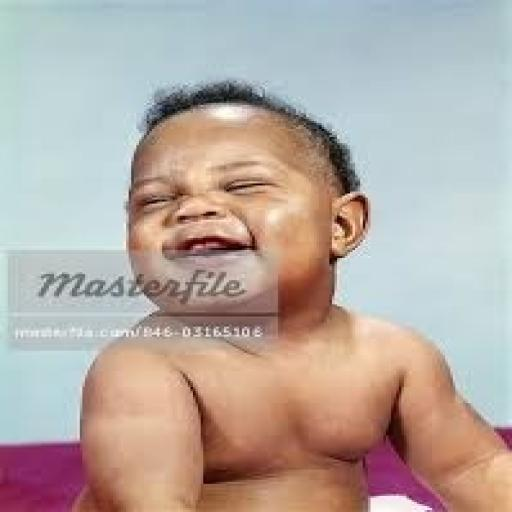laughing: (46, 73, 510, 510)
